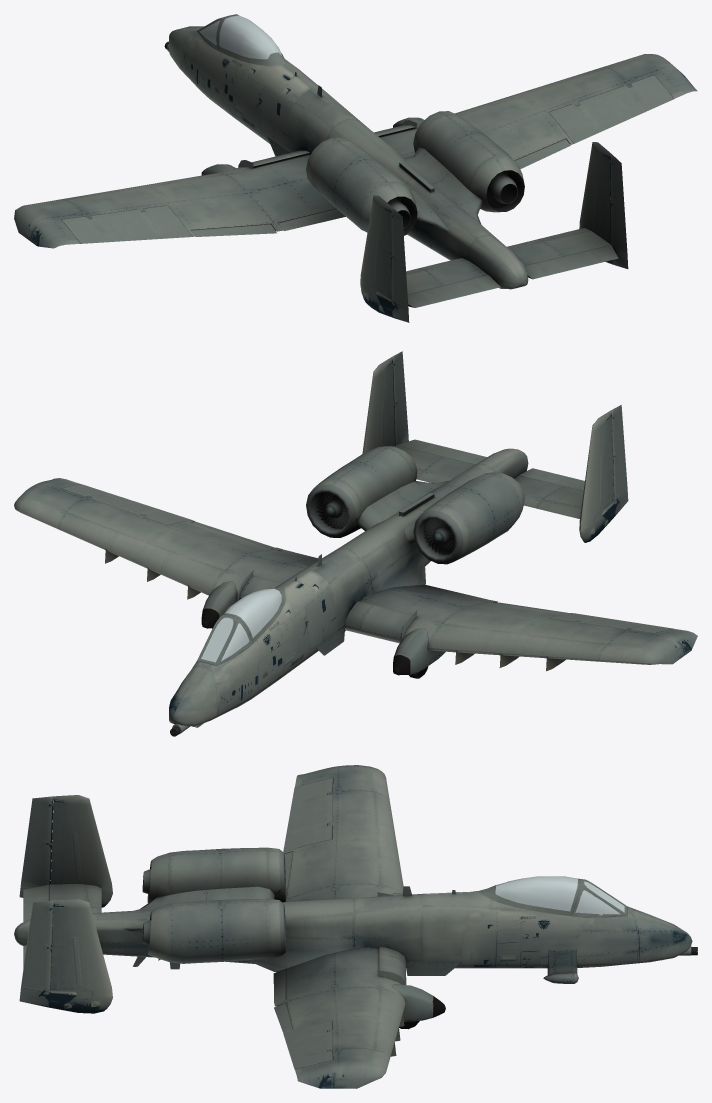
The picture shows the model from 3 angles, top to bottom: view 1: azimuth 30°, elevation 25°; view 2: azimuth 150°, elevation 25°; view 3: azimuth 270°, elevation 25°; orthographic projection. The views are drawn at different scales.
Visible parts, largest first — view 1: fuselage512, rightaileron512, leftaileron512, elevators512, canopy512, leftrudder512, rightrudder512; view 2: fuselage512, canopy512, elevators512, rightaileron512, leftrudder512, rightrudder512, leftaileron512; view 3: fuselage512, canopy512, rightrudder512, leftaileron512, leftrudder512, rightaileron512, elevators512.
Part boxes in pixels (x1,y1,x2,y2): fuselage512: [14, 14, 697, 317]; rightaileron512: [549, 75, 673, 143]; leftaileron512: [62, 205, 192, 243]; elevators512: [407, 245, 618, 307]; canopy512: [199, 15, 281, 59]; leftrudder512: [391, 207, 409, 322]; rightrudder512: [610, 153, 628, 268]; fuselage512: [14, 357, 697, 736]; canopy512: [201, 588, 281, 662]; elevators512: [396, 439, 584, 490]; rightaileron512: [62, 484, 192, 525]; leftrudder512: [611, 405, 628, 518]; rightrudder512: [392, 351, 408, 445]; leftaileron512: [549, 613, 673, 633]; fuselage512: [14, 765, 697, 1088]; canopy512: [495, 876, 624, 915]; rightrudder512: [19, 900, 53, 1007]; leftaileron512: [283, 778, 332, 851]; leftrudder512: [19, 796, 53, 897]; rightaileron512: [283, 1020, 332, 1069]; elevators512: [23, 884, 48, 968].
Bounding box in the file's own units: 17.45 × 3.53 × 16.19.
